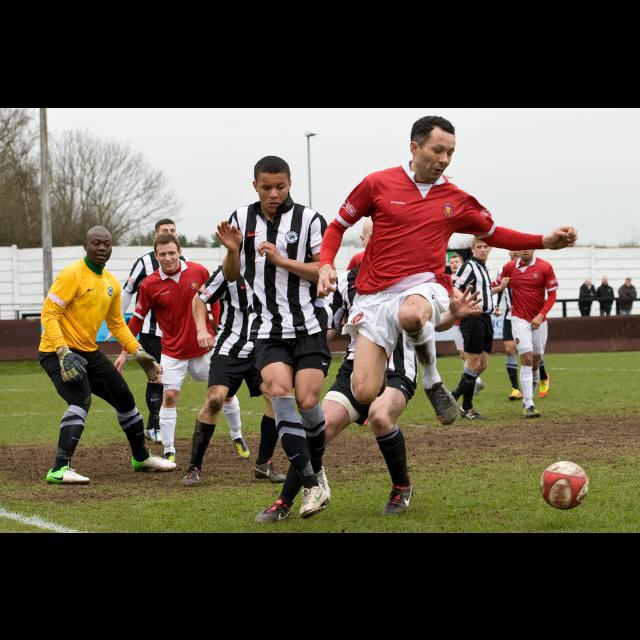Football: (538, 459, 588, 509)
